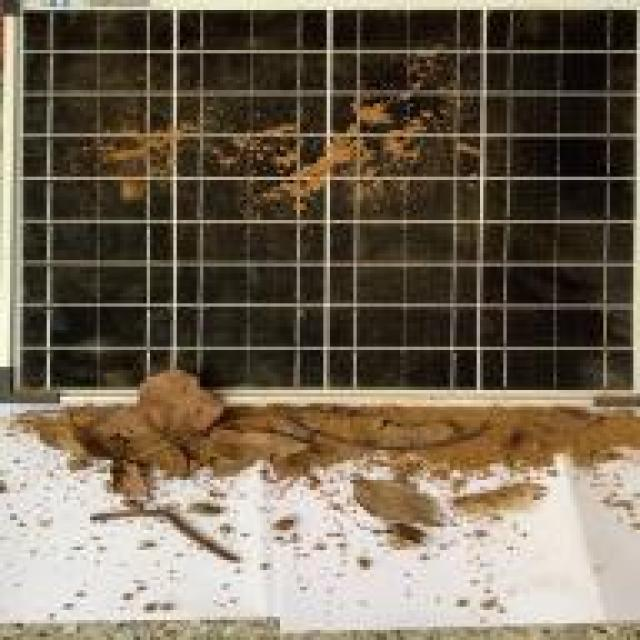dust-solar-panel: (0, 0, 640, 403)
